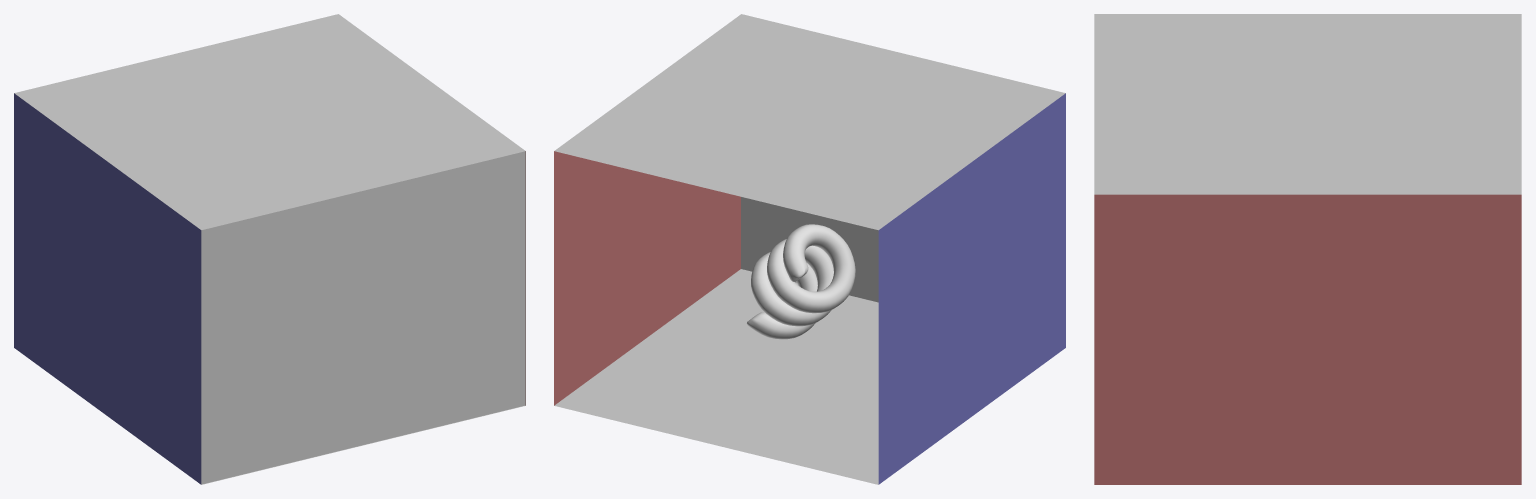
Rendered from CBcoil.dae.
3 renders of one model, left to right at view 1: azimuth 30°, elevation 25°; view 2: azimuth 150°, elevation 25°; view 3: azimuth 270°, elevation 25°, orthographic. The views are drawn at different scales.
Parts seen in each view (by area): view 1: backWall, ceiling, rightWall; view 2: ceiling, rightWall, floor, leftWall, coil, backWall; view 3: leftWall, ceiling.
Boxes of the visible parts, bbox=[...] form: backWall: bbox=[201, 151, 525, 484]; ceiling: bbox=[14, 14, 525, 230]; rightWall: bbox=[14, 93, 201, 484]; ceiling: bbox=[554, 14, 1065, 230]; rightWall: bbox=[878, 93, 1065, 484]; floor: bbox=[554, 269, 878, 484]; leftWall: bbox=[554, 151, 740, 405]; coil: bbox=[747, 224, 855, 339]; backWall: bbox=[741, 197, 878, 302]; leftWall: bbox=[1094, 194, 1521, 484]; ceiling: bbox=[1094, 14, 1521, 194].
Size of the model in its own units: 2 by 2 by 1.5.
